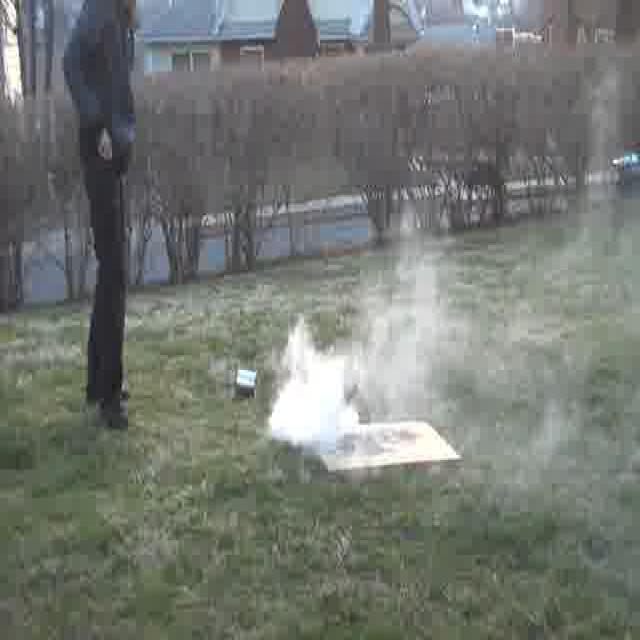Smoke: (269, 288, 466, 440)
